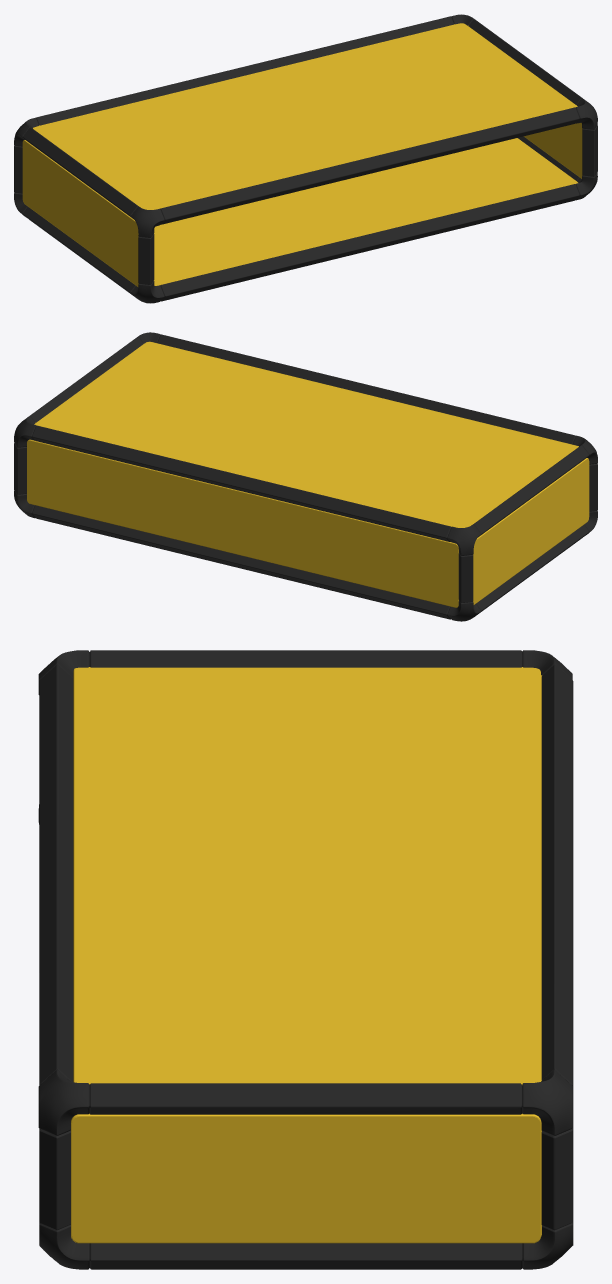
The picture shows the model from 3 angles, top to bottom: view 1: azimuth 30°, elevation 25°; view 2: azimuth 150°, elevation 25°; view 3: azimuth 270°, elevation 25°; orthographic projection. The views are drawn at different scales.
Visible parts, largest first — view 1: 729x329x79; view 2: 729x329x79; view 3: 729x329x79.
Boxes of the visible parts, x1=… form: 729x329x79: x1=14, y1=14, x2=597, y2=303; 729x329x79: x1=14, y1=332, x2=597, y2=621; 729x329x79: x1=38, y1=650, x2=573, y2=1269.
Size of the model in its own units: 0.8067 by 0.1565 by 0.4063.
